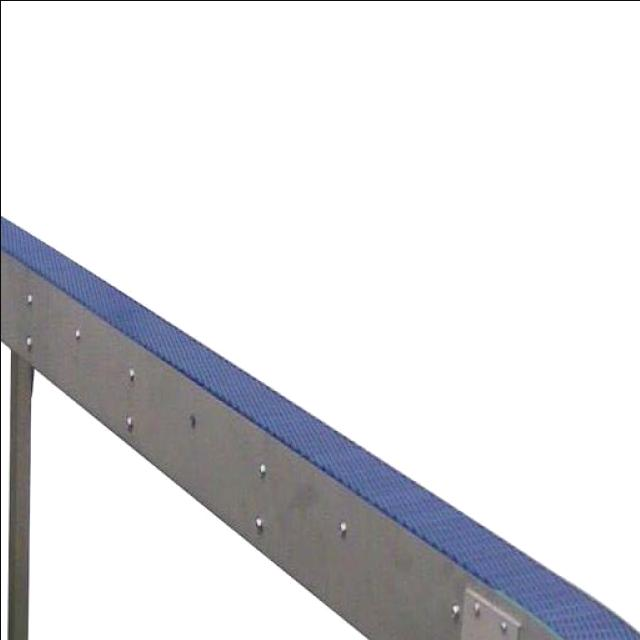conveyor: (0, 214, 640, 635)
